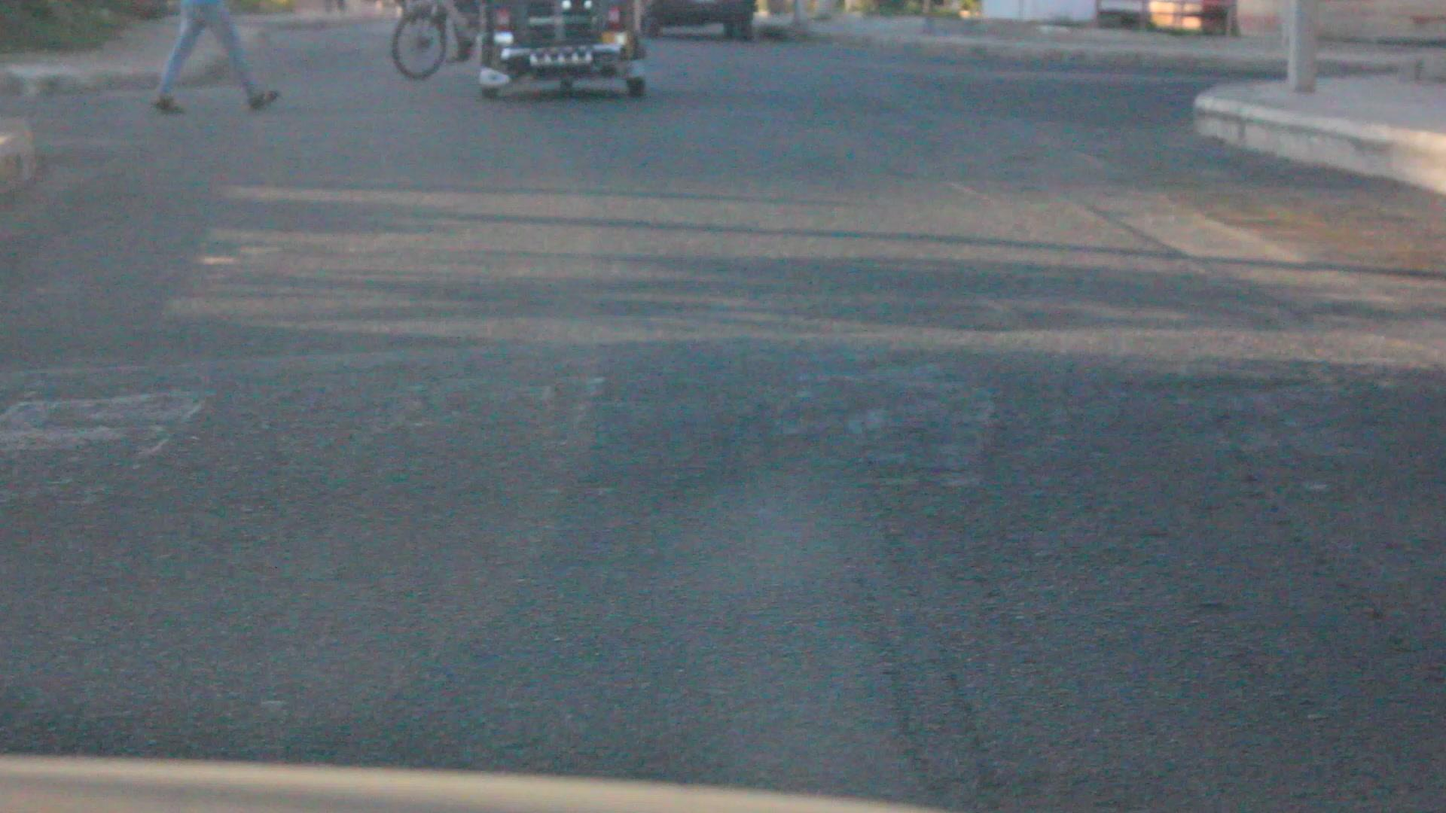Bump: (19, 384, 1446, 499)
